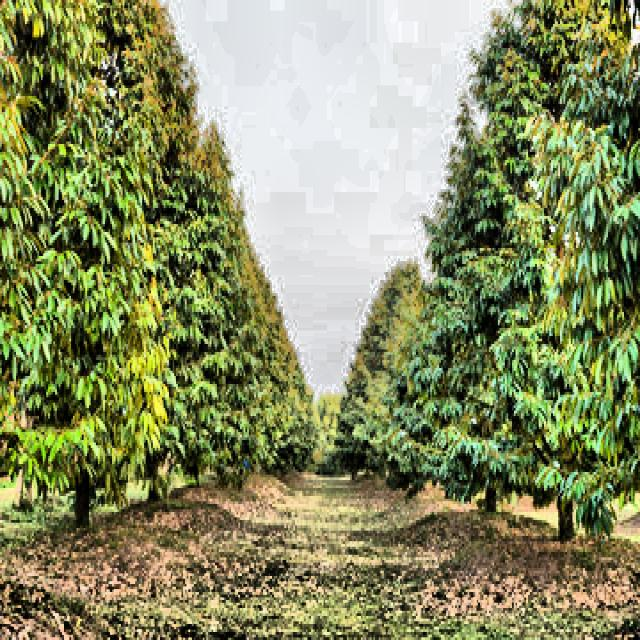arvore: (544, 319, 592, 558), (62, 391, 102, 538), (481, 404, 508, 522)
